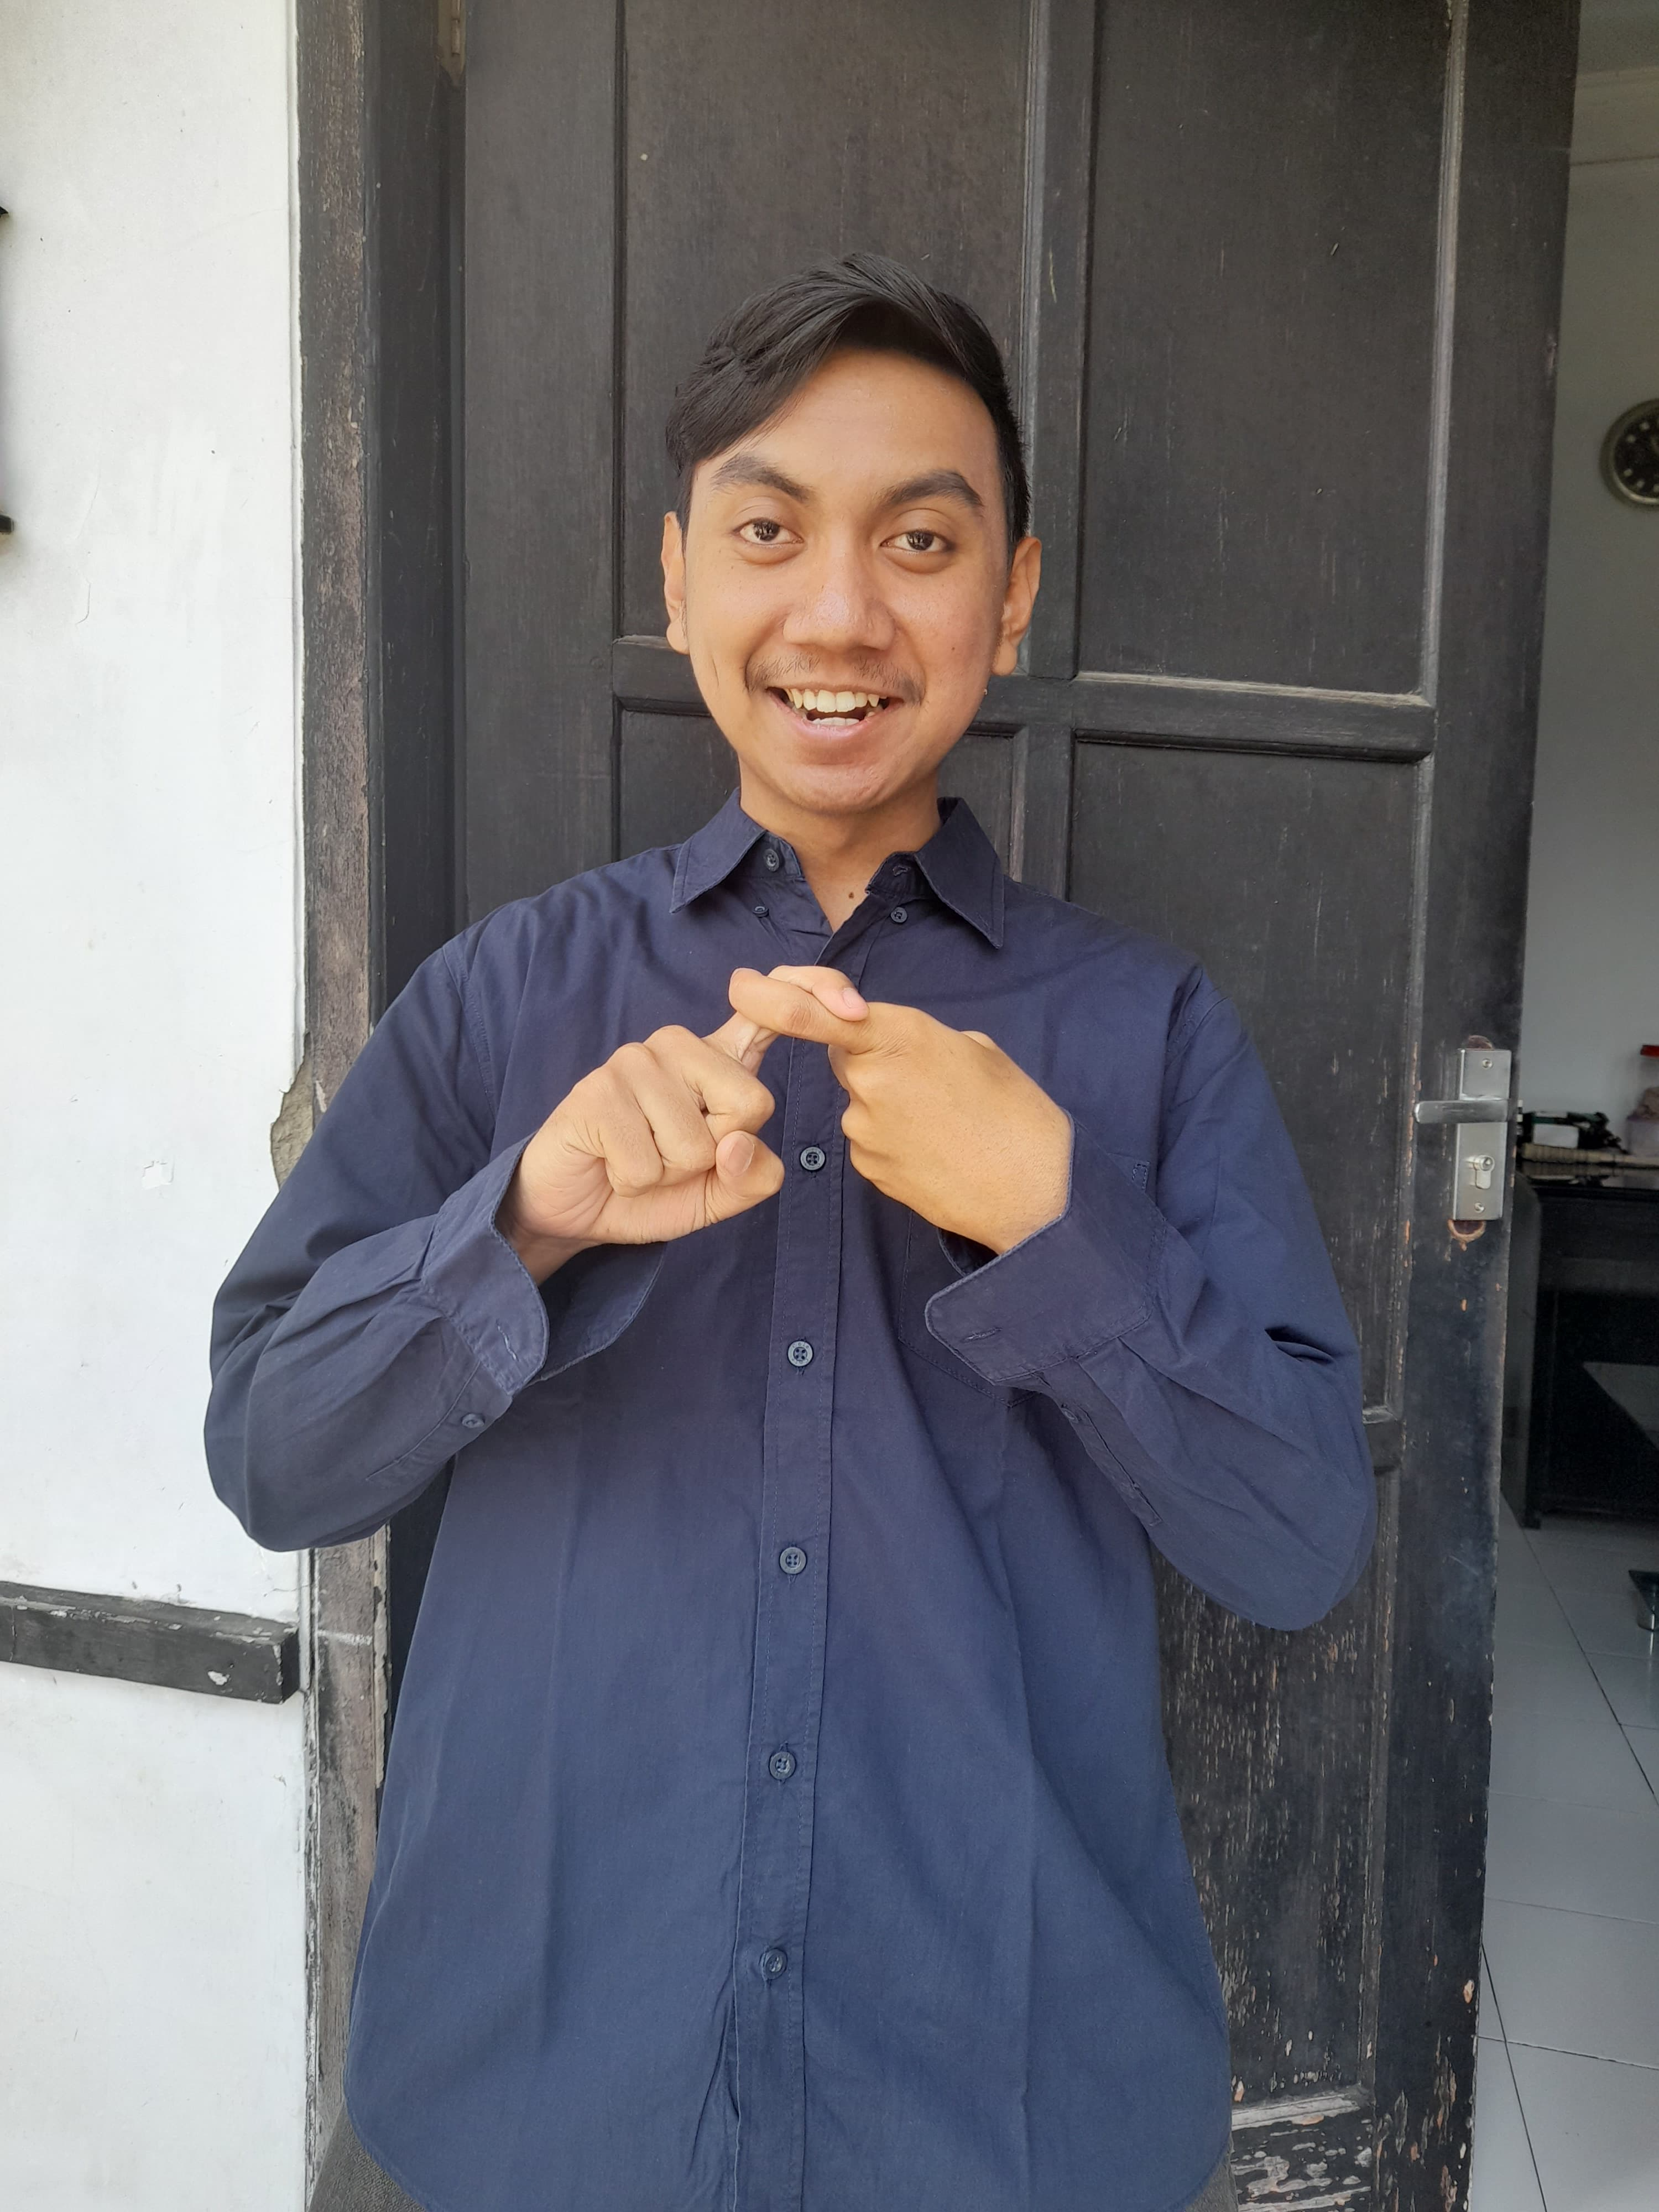Teman: (464, 935, 1122, 1327)
